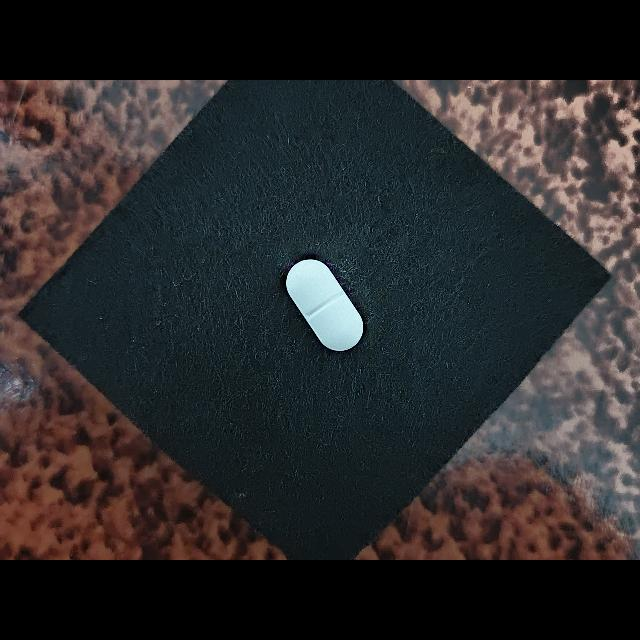Intact Pill: (286, 259, 364, 352)
